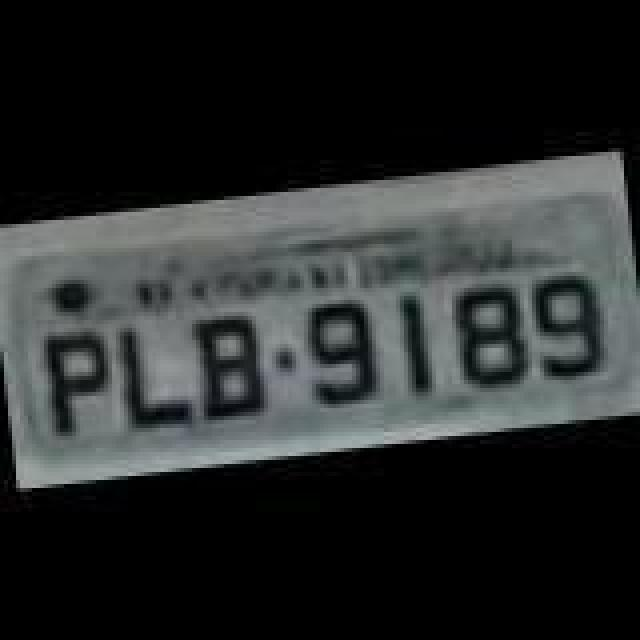1: (396, 288, 436, 400)
8: (456, 280, 536, 392)
9: (300, 292, 388, 412), (528, 270, 608, 386)
B: (192, 310, 272, 426)
L: (112, 318, 200, 434)
P: (40, 326, 120, 442)
